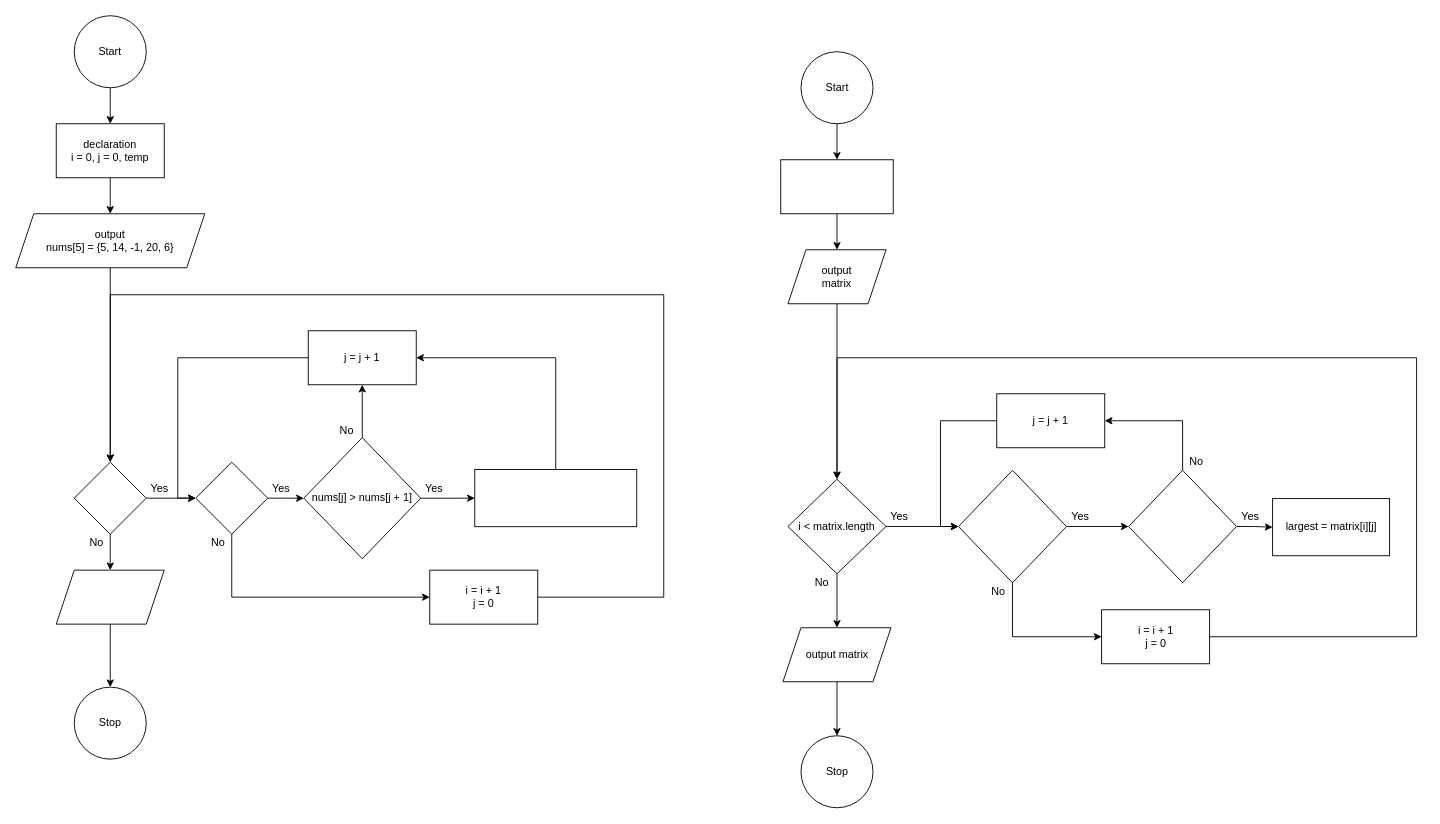
Image size: 1440x824. Some labels were removed from this diagram. Here are the shapes that lost their labels. From the top down, the centre of each, then its label:
At (x=836, y=186): "declaration largest = matrix[0][0] i = 0, j = 0".
At (x=109, y=497): "i < 5".
At (x=231, y=497): "j < 5 - i - 1".
At (x=555, y=498): "temp = nums[j] nums[j] = nums[j + 1 ]] nums[j + 1 ] = temp".
At (x=1012, y=526): "j < matrix[i].length".
At (x=1182, y=526): "matrix[i][j] > largest".
At (x=109, y=596): "output numbers".
